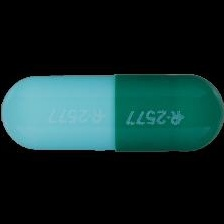50090-0671: (0, 0, 224, 224)
